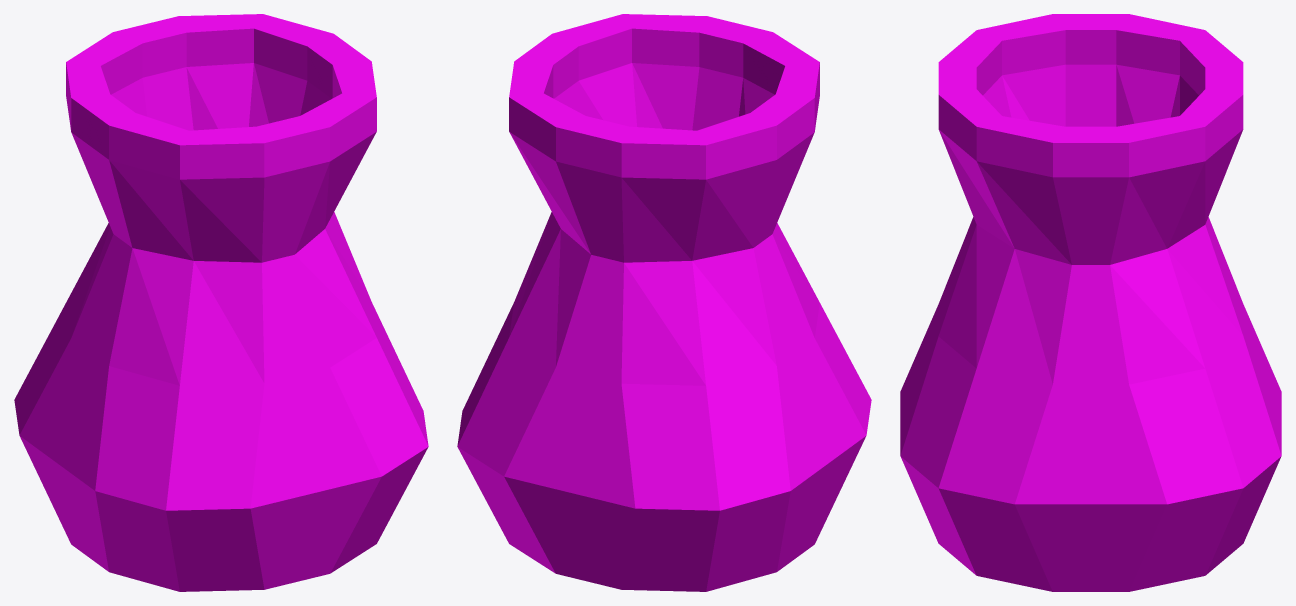
The model's file is largeurn.obj.
The picture shows the model from 3 angles, left to right: view 1: azimuth 30°, elevation 25°; view 2: azimuth 150°, elevation 25°; view 3: azimuth 270°, elevation 25°; orthographic projection.
Visible parts, largest first — view 1: largeurn_back; view 2: largeurn_back; view 3: largeurn_back.
Part boxes in pixels (x1,y1,x2,y2): largeurn_back: [14, 14, 428, 591]; largeurn_back: [457, 14, 871, 591]; largeurn_back: [900, 14, 1281, 591].
Bounding box in the file's own units: 2.4 × 3.12 × 2.4.
